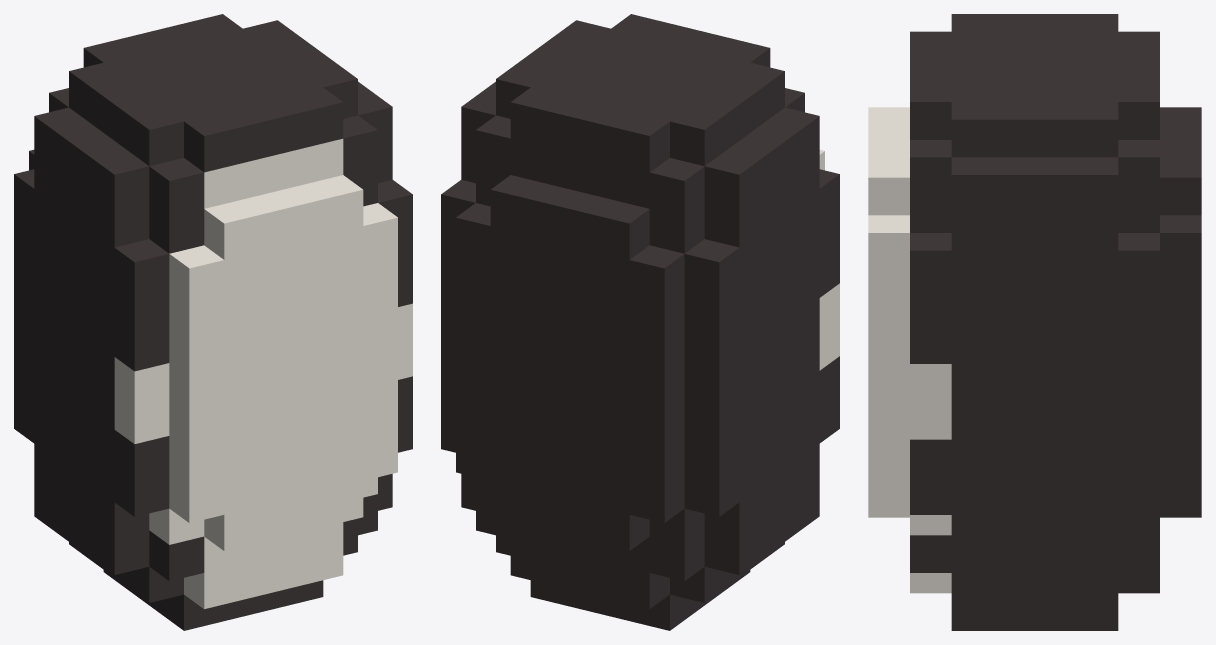
Rendered from penguin__body.glb.
3 renders of one model, left to right at view 1: azimuth 30°, elevation 25°; view 2: azimuth 150°, elevation 25°; view 3: azimuth 270°, elevation 25°, orthographic. The views are drawn at different scales.
Visible parts, largest first — view 1: penguin__body; view 2: penguin__body; view 3: penguin__body.
Part boxes in pixels (box(x1,y1,x2,y2)): penguin__body: box(14, 14, 412, 630); penguin__body: box(441, 14, 839, 630); penguin__body: box(868, 14, 1201, 630).
Bounding box in the file's own units: 0.8 × 1.4 × 0.8.
1 material, 1 textured.
